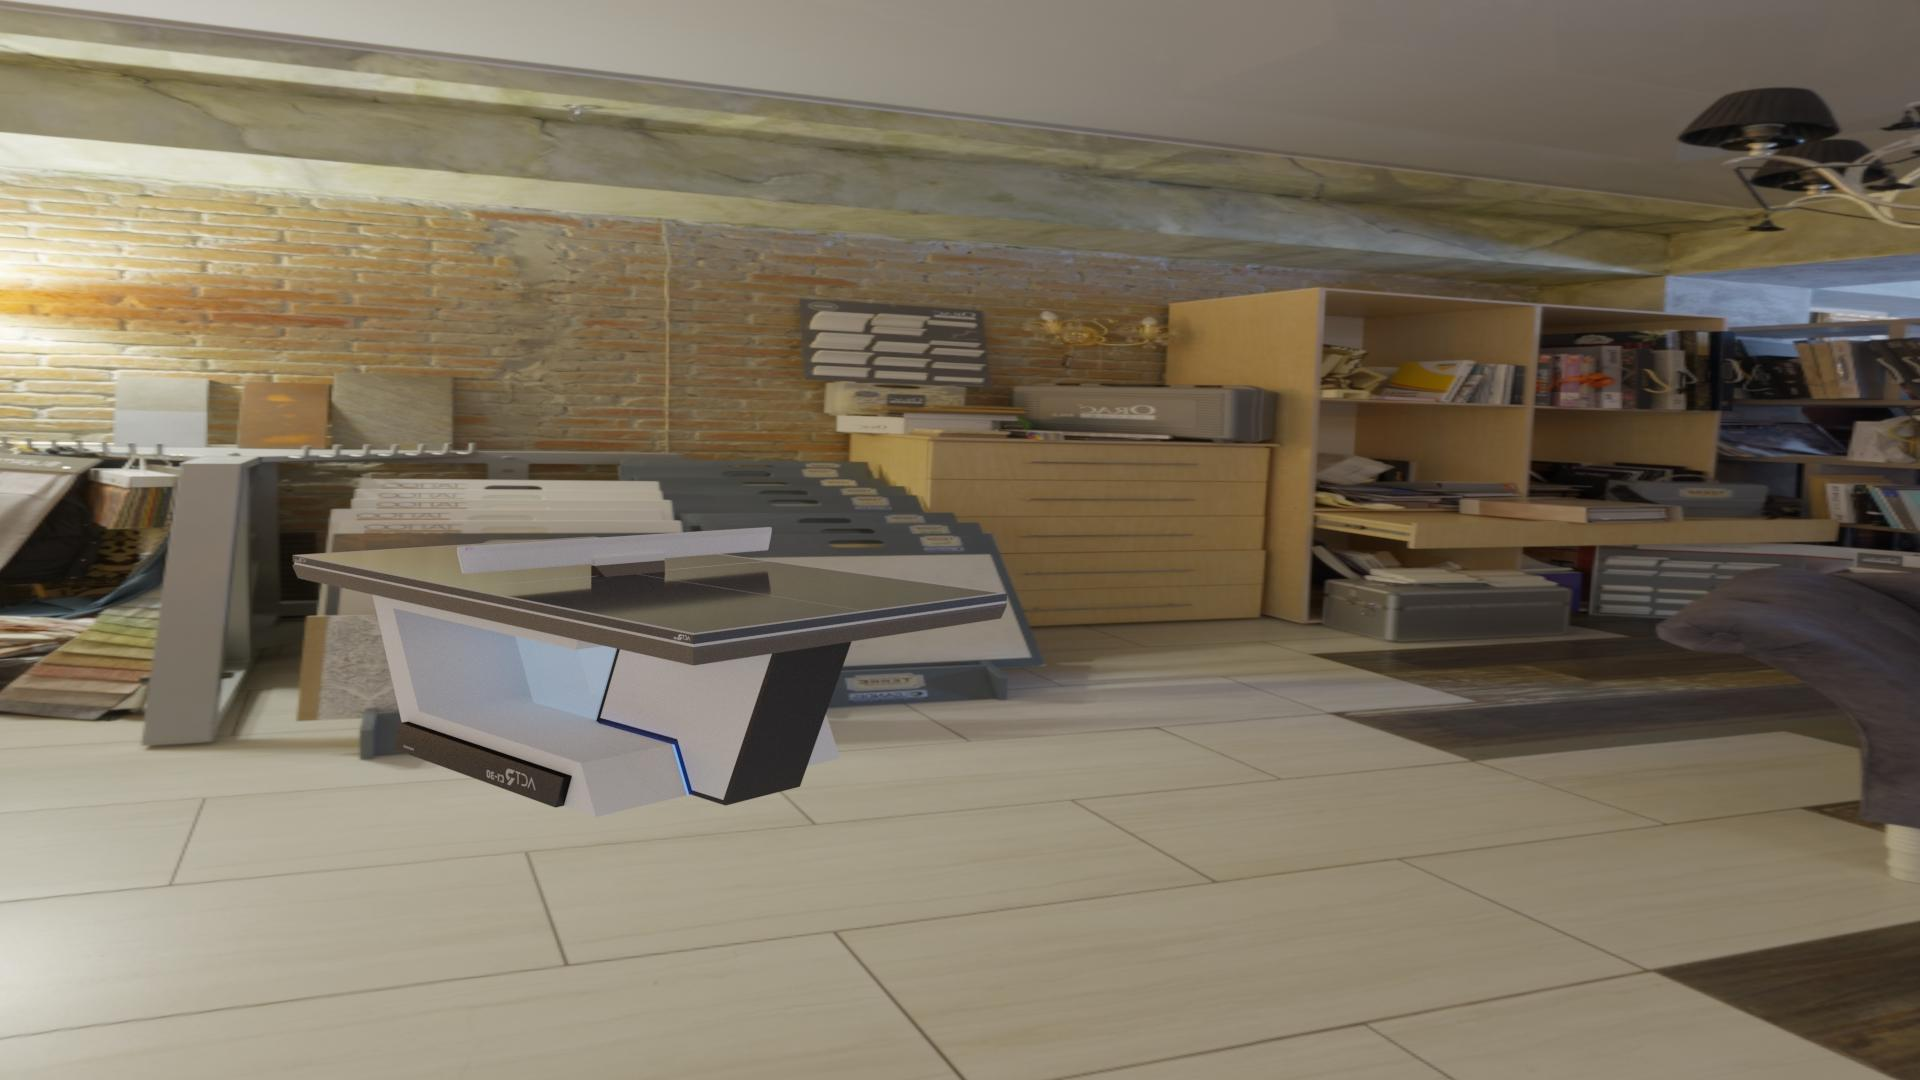table: (299, 537, 1000, 633)
